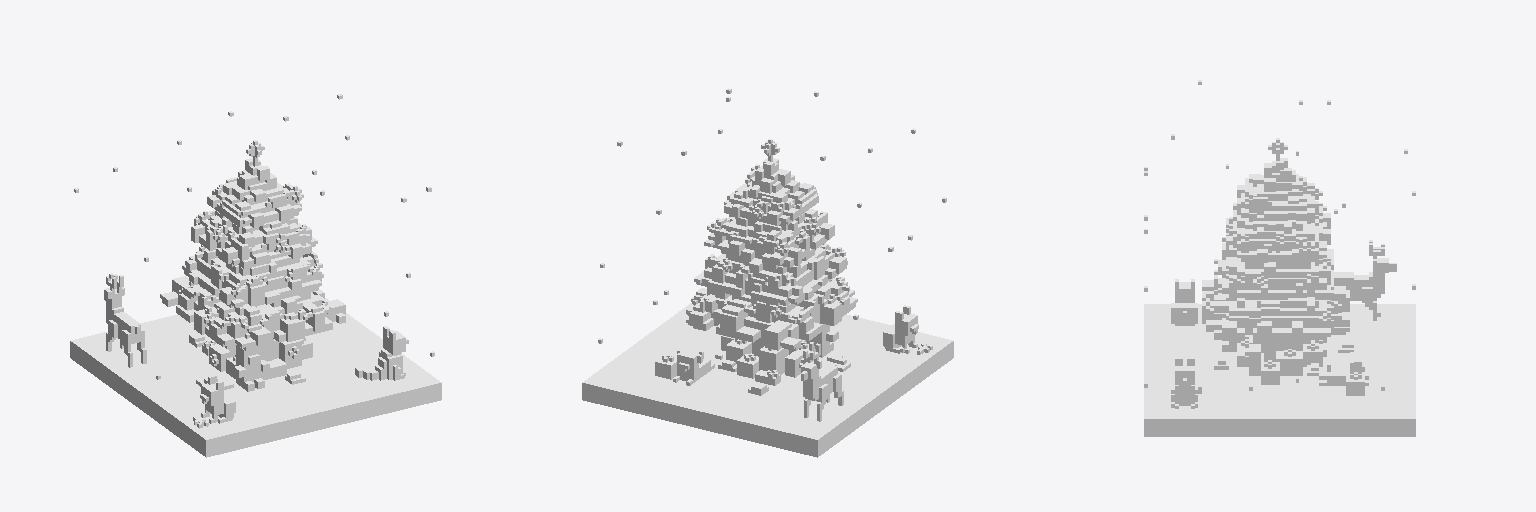
Rendered from Xmas.obj.
3 views of the same model, side by side, from view 1: azimuth 30°, elevation 25°; view 2: azimuth 150°, elevation 25°; view 3: azimuth 270°, elevation 25° (orthographic).
Parts seen in each view (by area): view 1: object 1; view 2: object 1; view 3: object 1.
Boxes of the visible parts, <box> form: object 1: <box>70,94,441,457</box>; object 1: <box>582,88,953,457</box>; object 1: <box>1144,80,1415,436</box>.
Size of the model in its own units: 7 by 7 by 7.